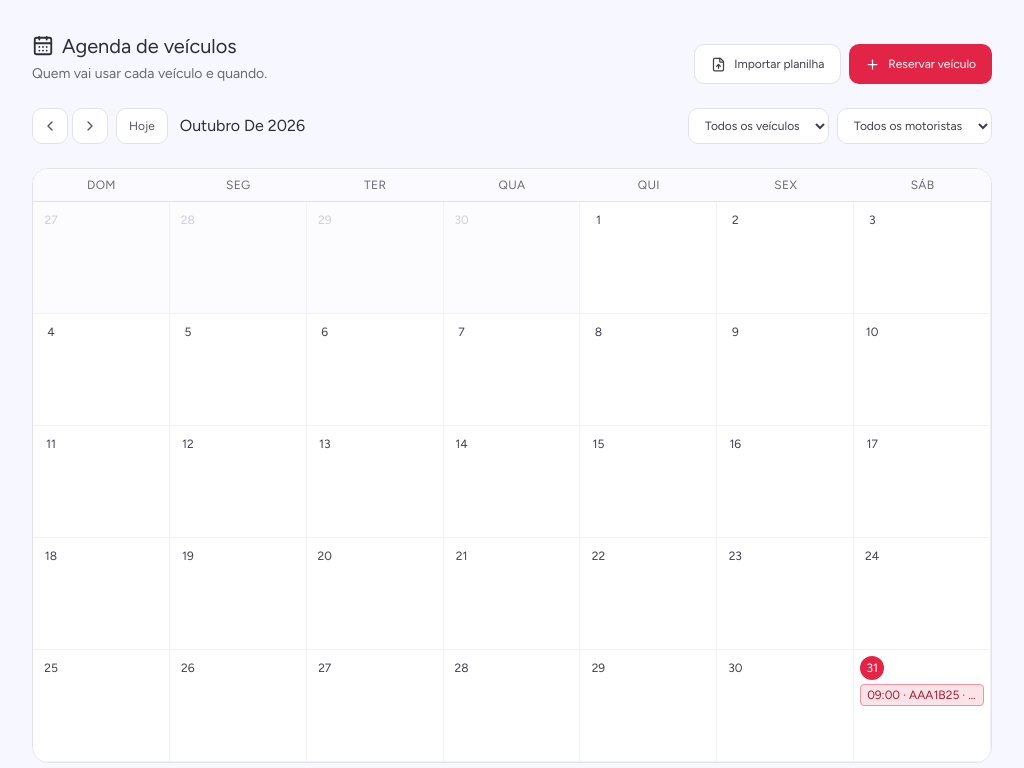
it: Agenda › clicar no uso abre o detalhe com as ações da saída
Click the button "09:00 · AAA1B25 · Maria Silva".
click(922, 695)  # box [860,684,984,706]
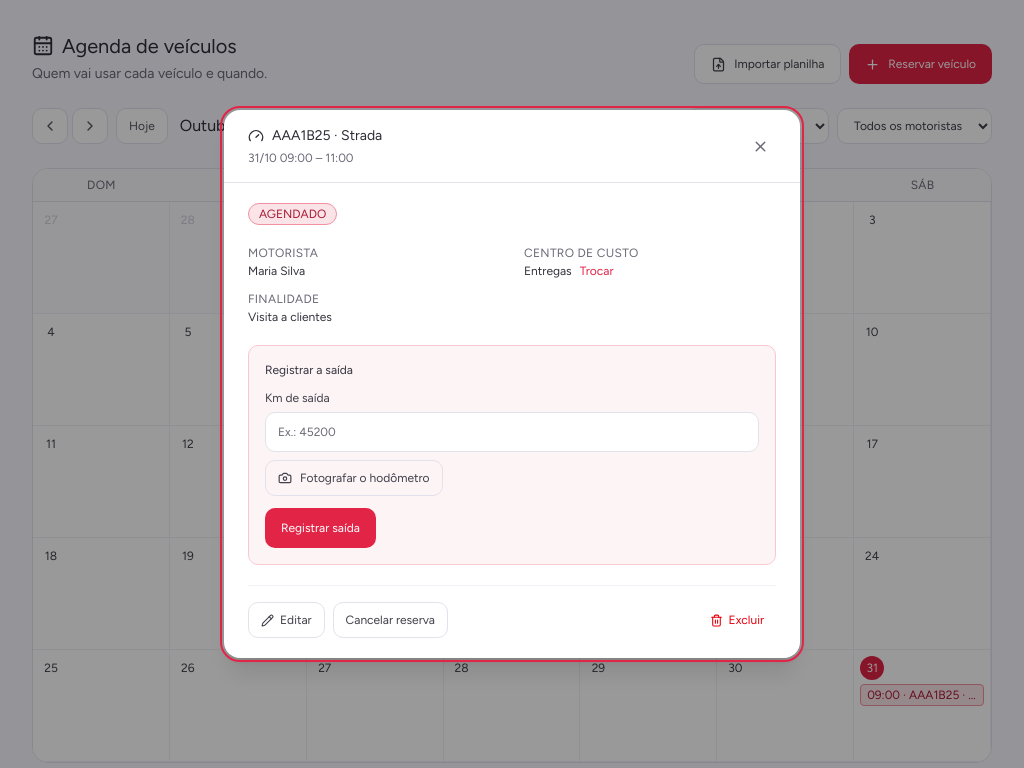
Check: the heading "AAA1B25 · Strada" is shown, box [248,126,382,146]
Check: the button "Registrar saída" is shown, box [265,508,376,548]
